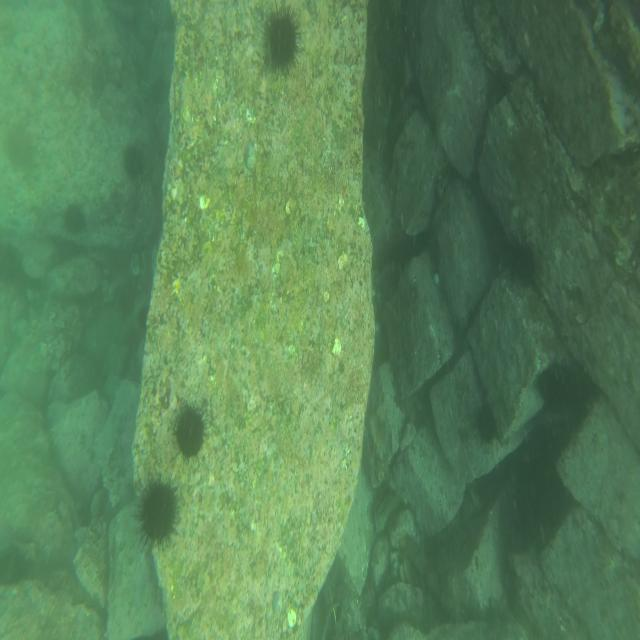echinus: (136, 488, 182, 544), (265, 8, 303, 74), (535, 355, 571, 416), (174, 400, 208, 459), (4, 542, 34, 587), (511, 240, 536, 288), (120, 142, 148, 181), (61, 205, 90, 237), (476, 406, 497, 446)
